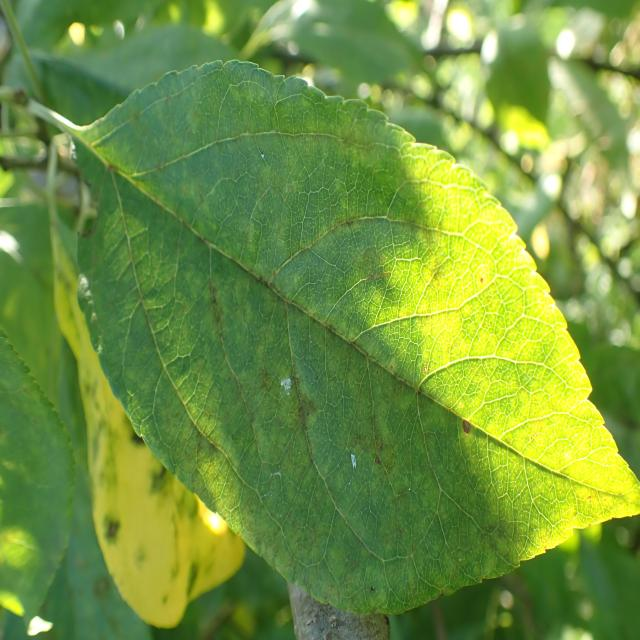scab: (90, 105, 602, 598)
